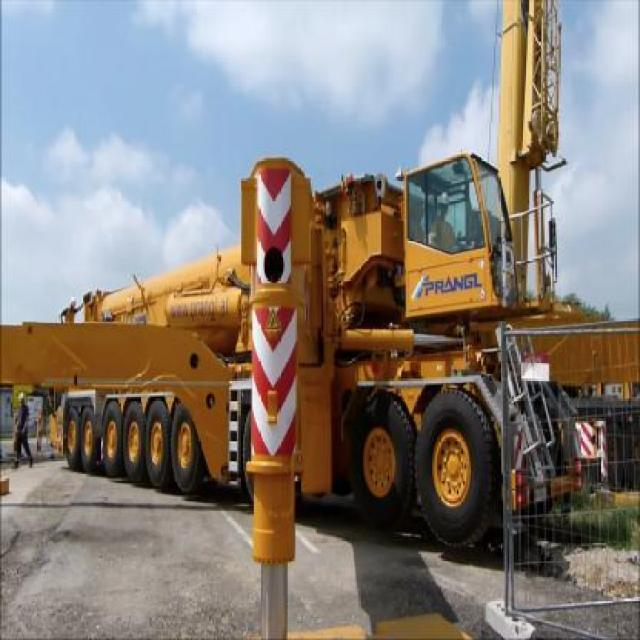Mobile Crane: (1, 0, 599, 534)
